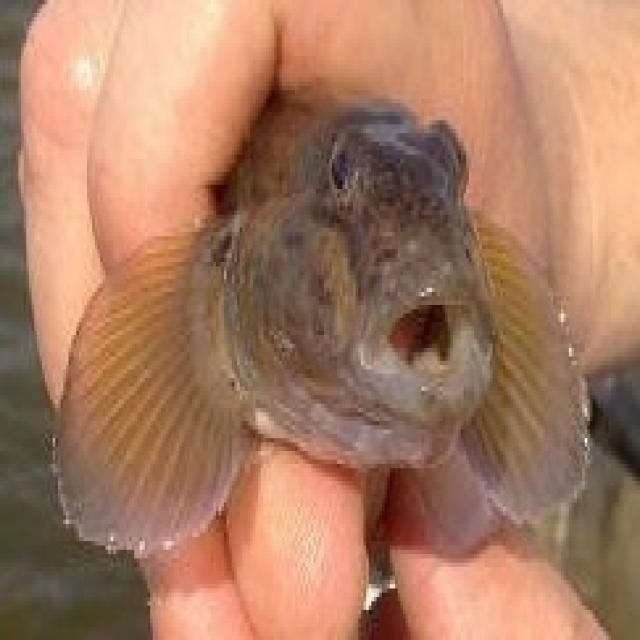Goby: (66, 74, 571, 629)
